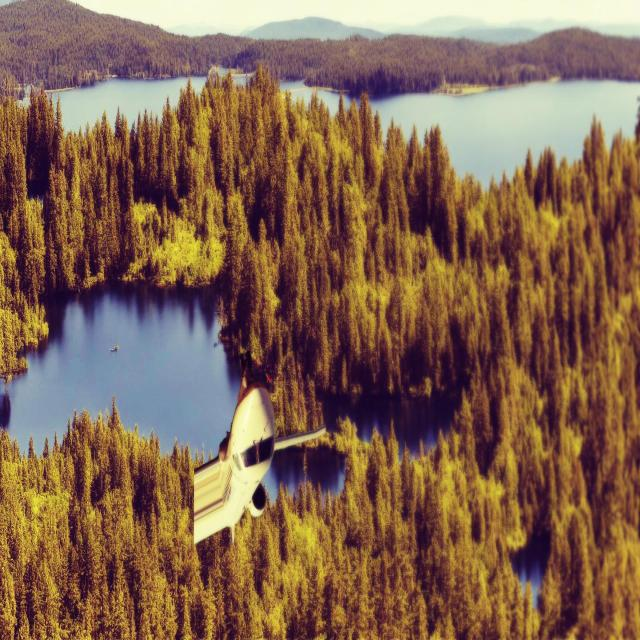airplane: (192, 350, 327, 546)
